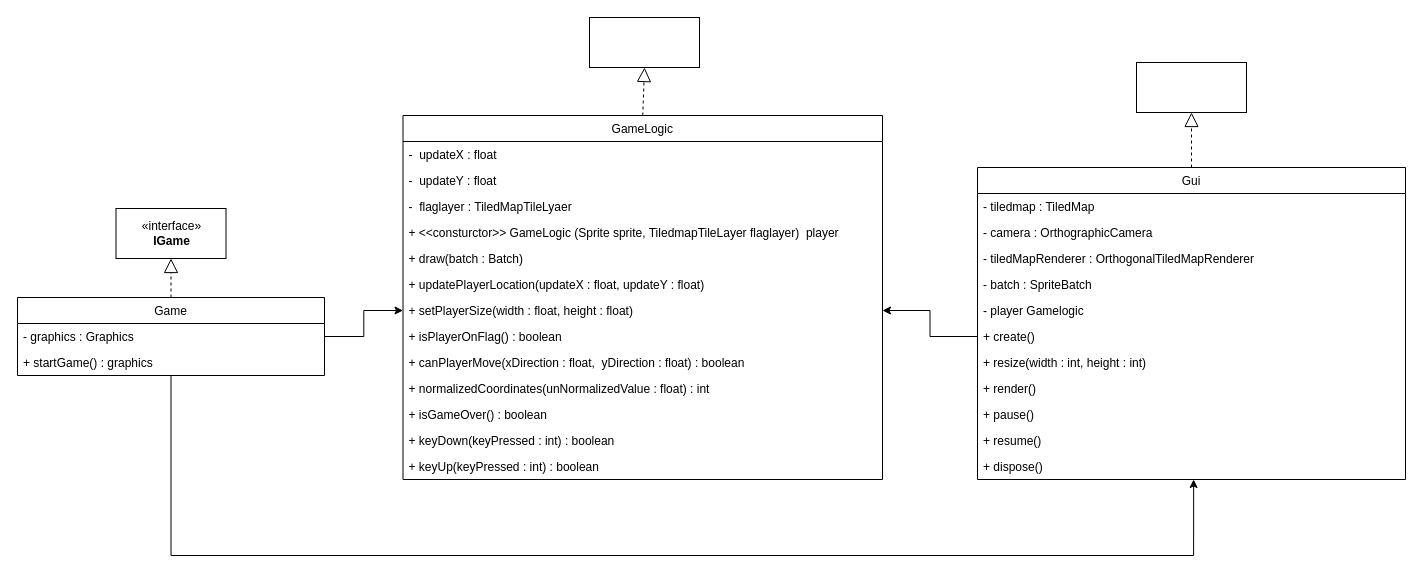
This 1423x581 diagram has some shape labels left out. Each missing label, with the centre of its shape:
«interface» IGameLogic: the point at 644,42
«interface» IGui: the point at 1191,87
